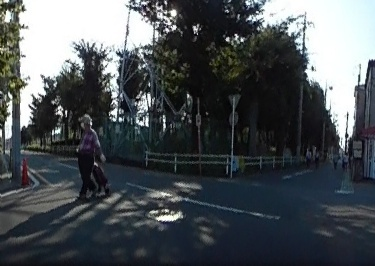person: (74, 112, 103, 202), (304, 147, 312, 166), (313, 150, 321, 168), (342, 151, 349, 171), (332, 151, 339, 169)
